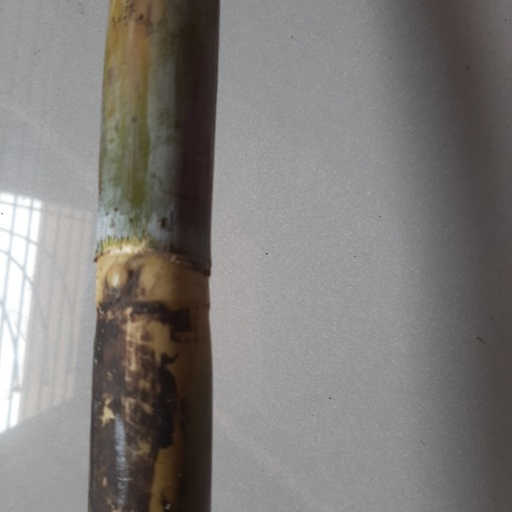Bud: (103, 263, 133, 302)
